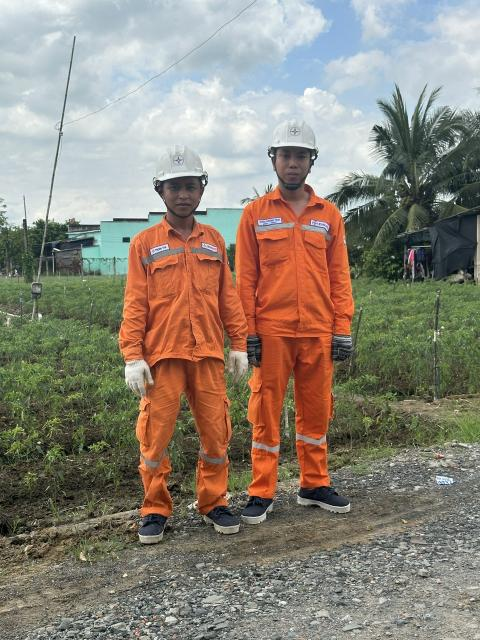gloves: (105, 348, 168, 409), (213, 338, 254, 389), (326, 330, 379, 368), (240, 330, 277, 369)
helmet: (139, 138, 220, 188), (266, 111, 321, 158)
shoes: (292, 477, 370, 520), (123, 502, 188, 552), (190, 498, 242, 552), (238, 489, 286, 531)
